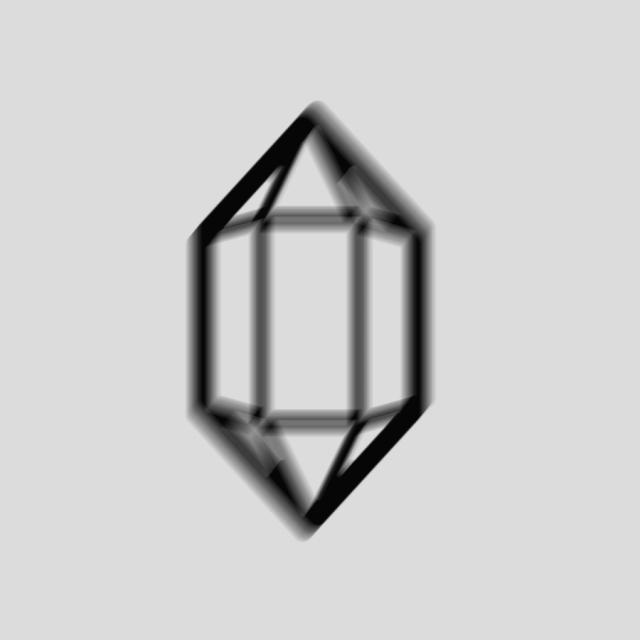crystal: (172, 93, 447, 550)
